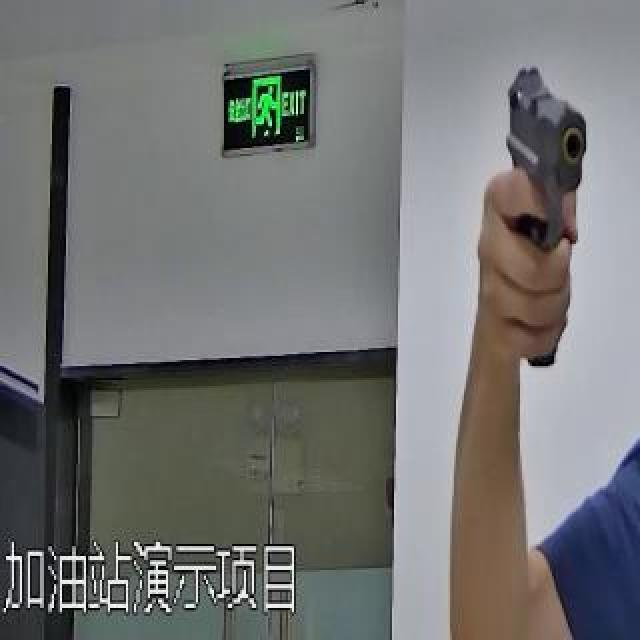Guns: (474, 34, 627, 384)
